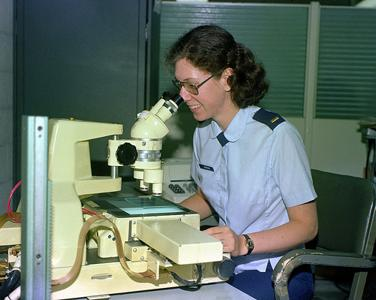person: (167, 26, 320, 298)
